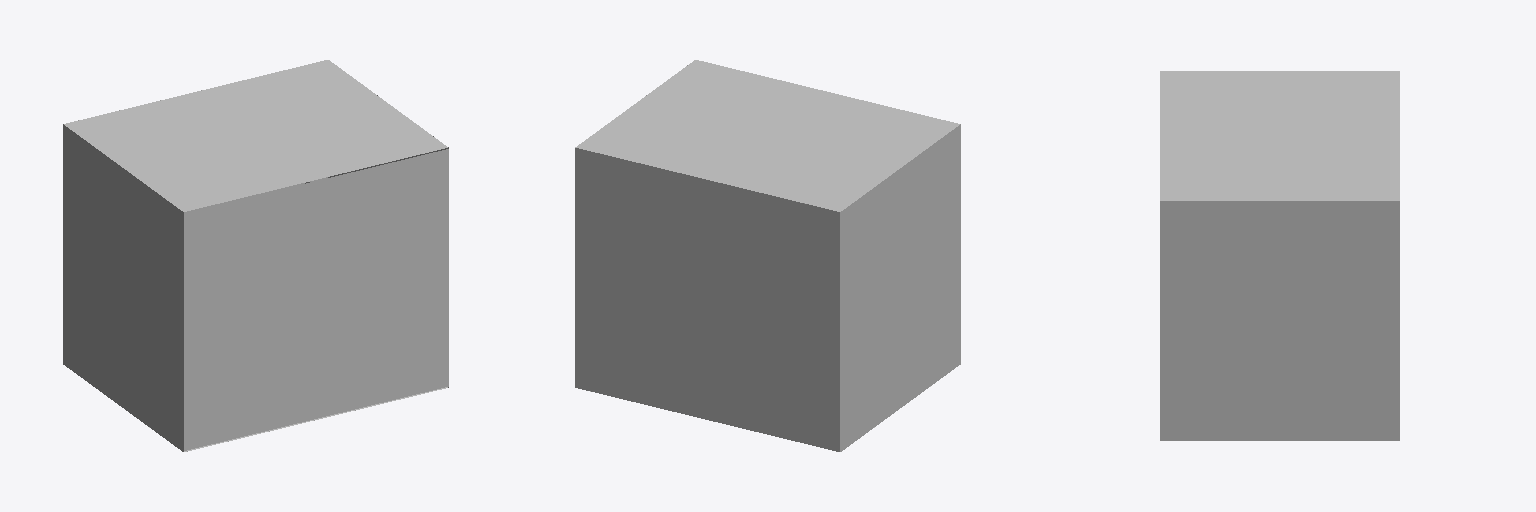
The model's file is sala_robot_plain.obj.
3 renders of one model, left to right at view 1: azimuth 30°, elevation 25°; view 2: azimuth 150°, elevation 25°; view 3: azimuth 270°, elevation 25°, orthographic.
Size of the model in its own units: 7000 by 6060 by 5501.